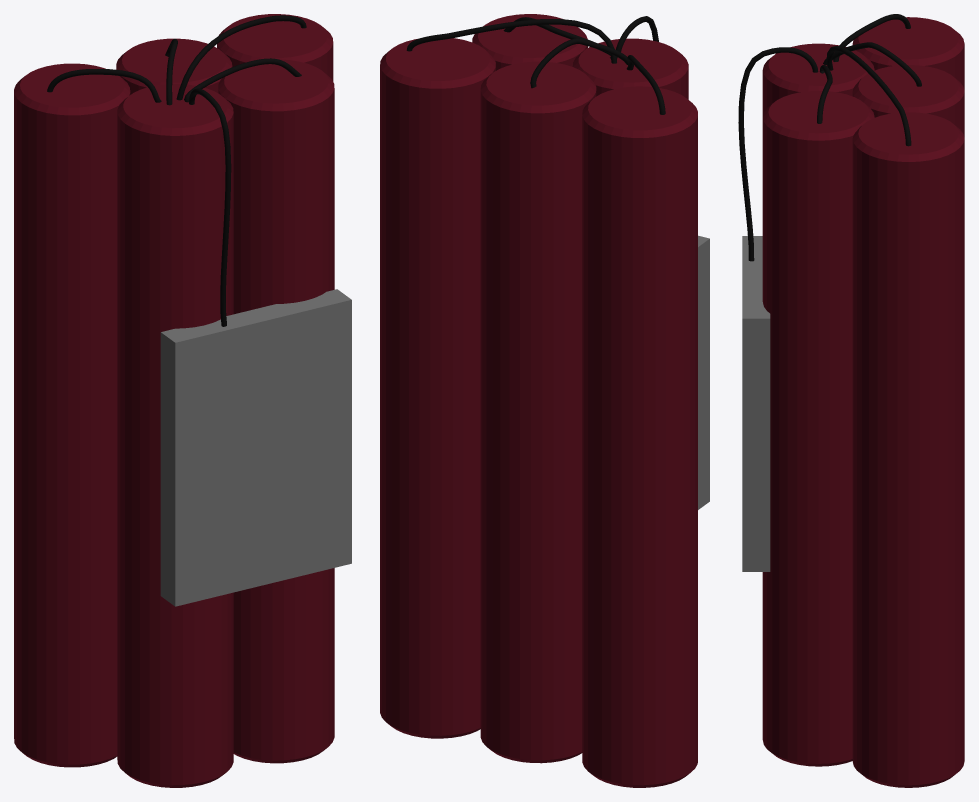
The model's file is TNT.fbx.
3 views of the same model, side by side, from view 1: azimuth 30°, elevation 25°; view 2: azimuth 150°, elevation 25°; view 3: azimuth 270°, elevation 25° (orthographic). The views are drawn at different scales.
Parts seen in each view (by area): view 1: TNT, Panel, Wires; view 2: TNT, Wires, Panel; view 3: TNT, Panel, Wires.
Boxes of the visible parts, x1,y1,x2,y2 form: TNT: (14,14,334,787); Panel: (160,289,351,606); Wires: (47,15,306,326); TNT: (380,14,697,787); Wires: (406,16,665,114); Panel: (698,235,709,509); TNT: (762,17,964,787); Panel: (742,236,770,571); Wires: (738,14,921,261).
Size of the model in its own units: 12.05 by 26.53 by 8.09.
